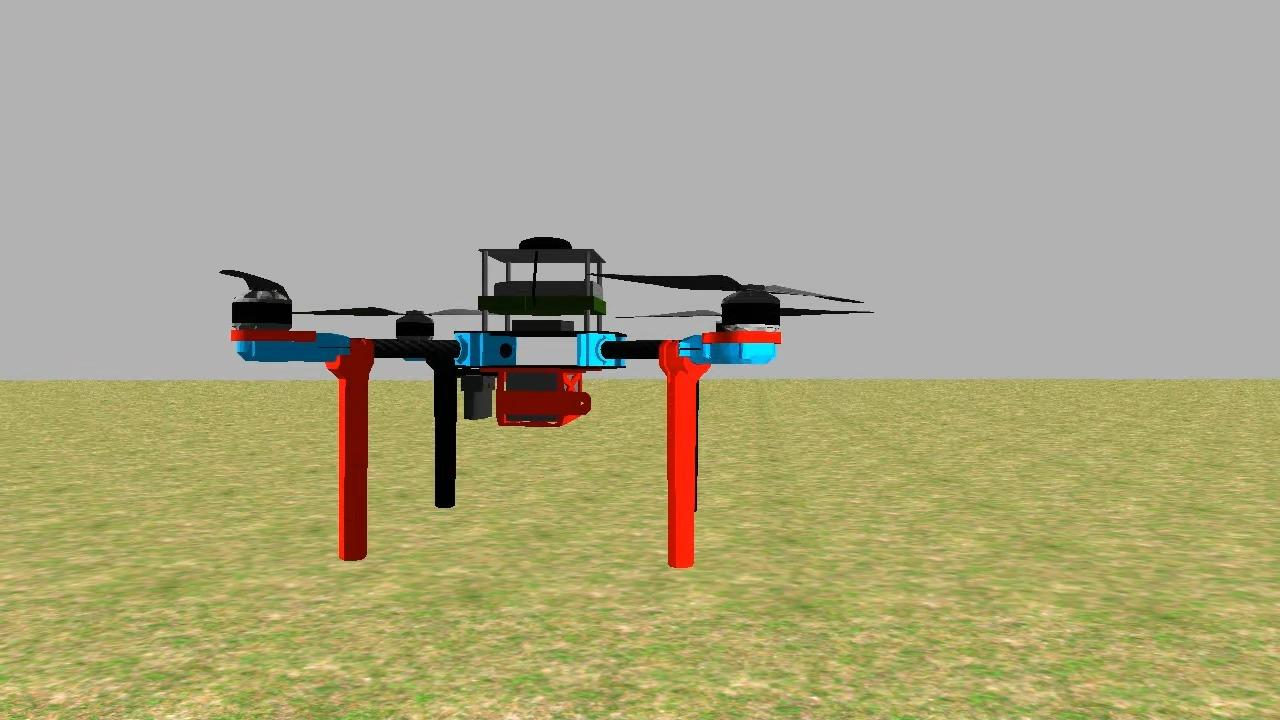UAV: (215, 224, 794, 582)
